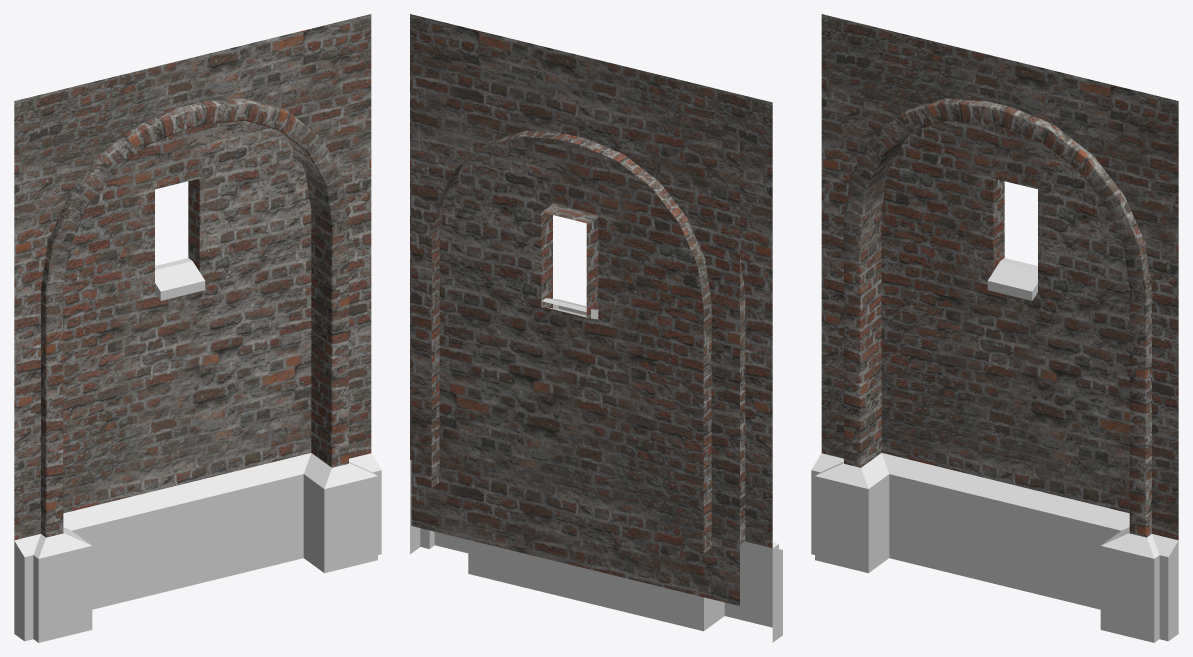
Rendered from TrainStation.fbx.
3 renders of one model, left to right at view 1: azimuth 30°, elevation 25°; view 2: azimuth 150°, elevation 25°; view 3: azimuth 330°, elevation 25°, orthographic.
Visible parts, largest first — view 1: Cube.001, Cube.002, Cube.006, Cube, Cube.003; view 2: Cube.001, Cube.002, Cube.006, Cube, Cube.003; view 3: Cube.001, Cube.002, Cube.006, Cube, Cube.003.
Part boxes in pixels (x1,y1,x2,y2): Cube.001: [46, 121, 331, 537]; Cube.002: [14, 14, 371, 540]; Cube.006: [14, 453, 381, 642]; Cube: [41, 98, 348, 537]; Cube.003: [155, 258, 205, 300]; Cube.001: [411, 54, 739, 605]; Cube.002: [410, 14, 772, 547]; Cube.006: [410, 460, 782, 642]; Cube: [431, 130, 745, 553]; Cube.003: [542, 298, 598, 319]; Cube.001: [861, 121, 1146, 537]; Cube.002: [821, 14, 1178, 540]; Cube.006: [811, 453, 1178, 642]; Cube: [844, 98, 1151, 537]; Cube.003: [987, 258, 1037, 300].
Bounding box in the file's own units: 2 × 2.85 × 0.4091.
